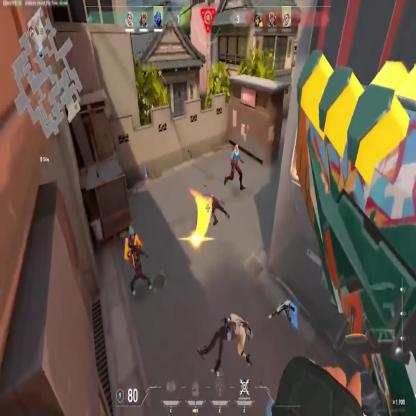enemy: (121, 227, 154, 297), (223, 143, 245, 194)
enemy_head: (128, 226, 134, 240), (235, 143, 239, 153)
